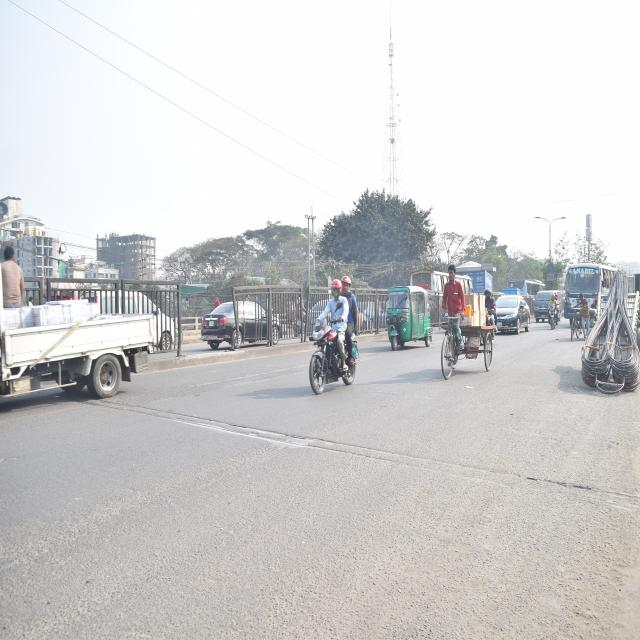bus: (562, 260, 614, 323)
car: (496, 284, 530, 338)
microbus: (534, 287, 554, 328)
motorbike: (302, 300, 363, 407), (485, 293, 500, 340), (547, 293, 561, 334)
pickup-van: (0, 237, 164, 418)
